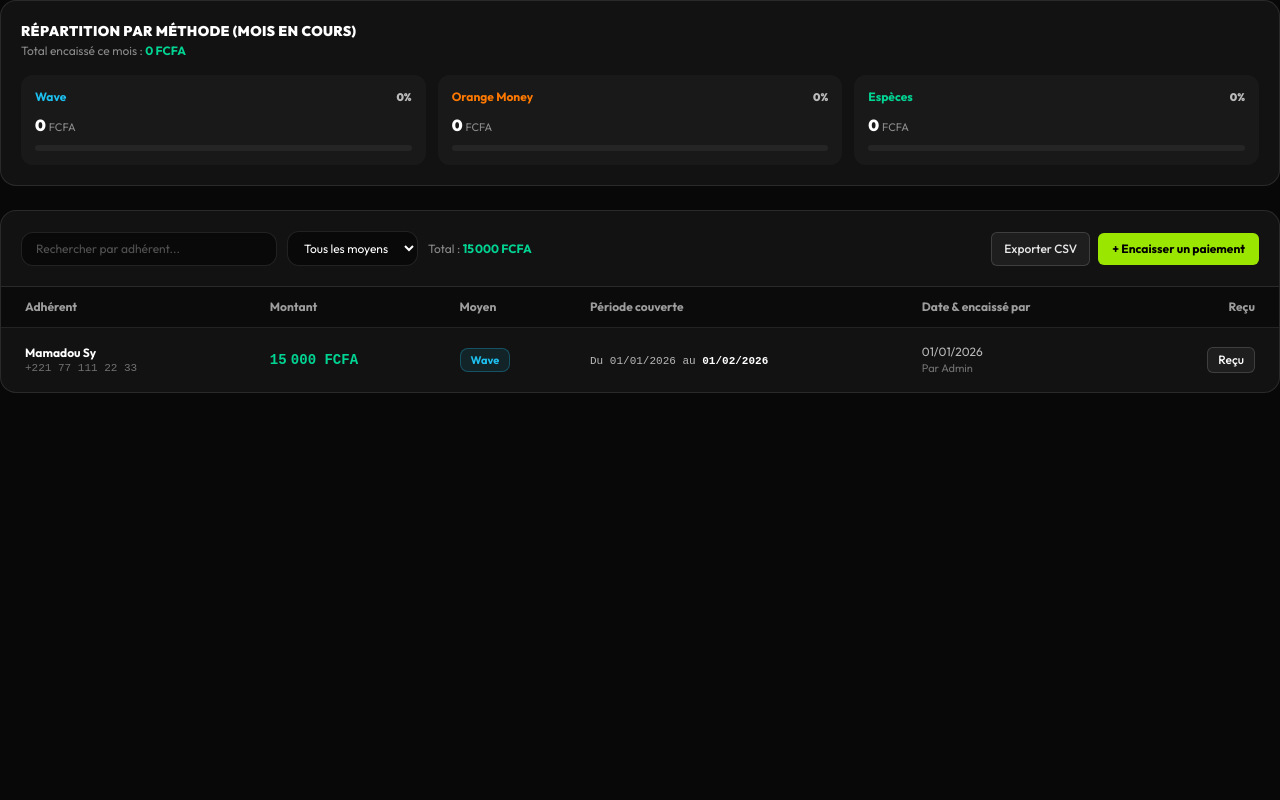
GymPaymentsTab › ouvre la modale d'enregistrement de paiement
Click the button "+ Encaisser un paiement": (1179, 248) [1098,232,1259,264]
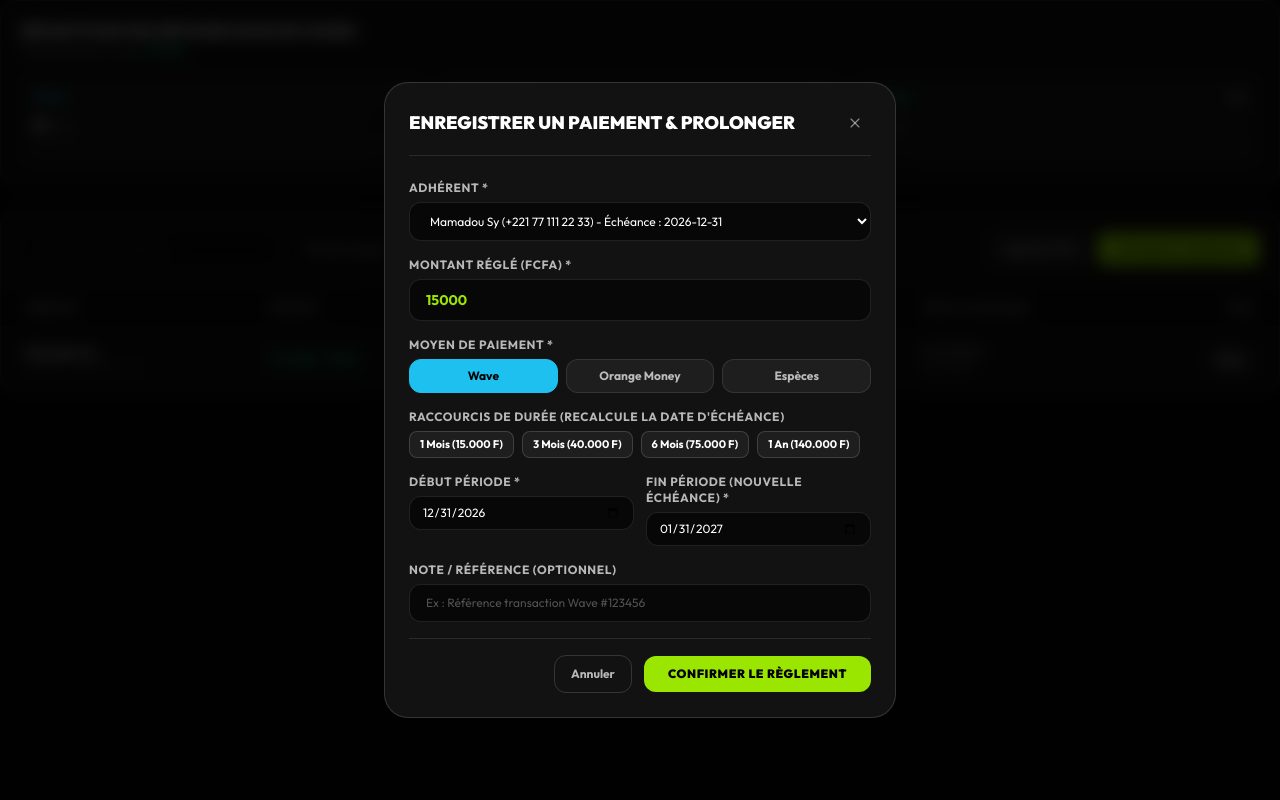
Expected: the heading "Enregistrer un paiement & prolonger" is shown, [409,109,795,137]
